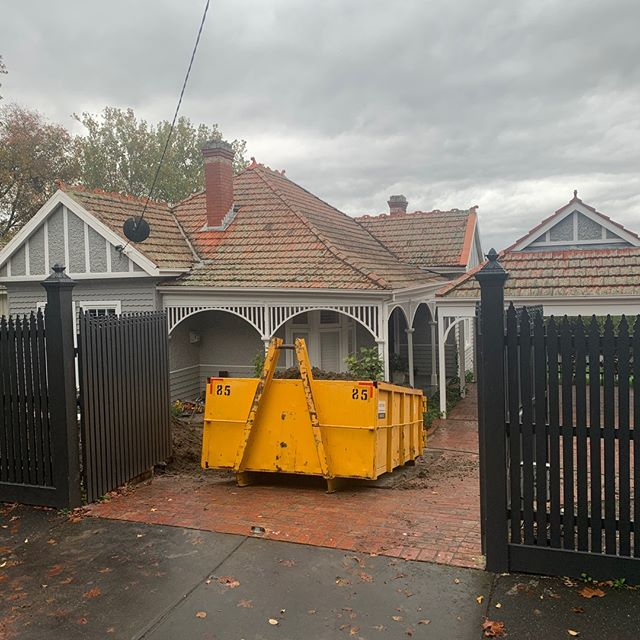building: (13, 189, 476, 451), (445, 212, 640, 473)
dumpster: (200, 361, 435, 490)
sky: (20, 1, 635, 224)
